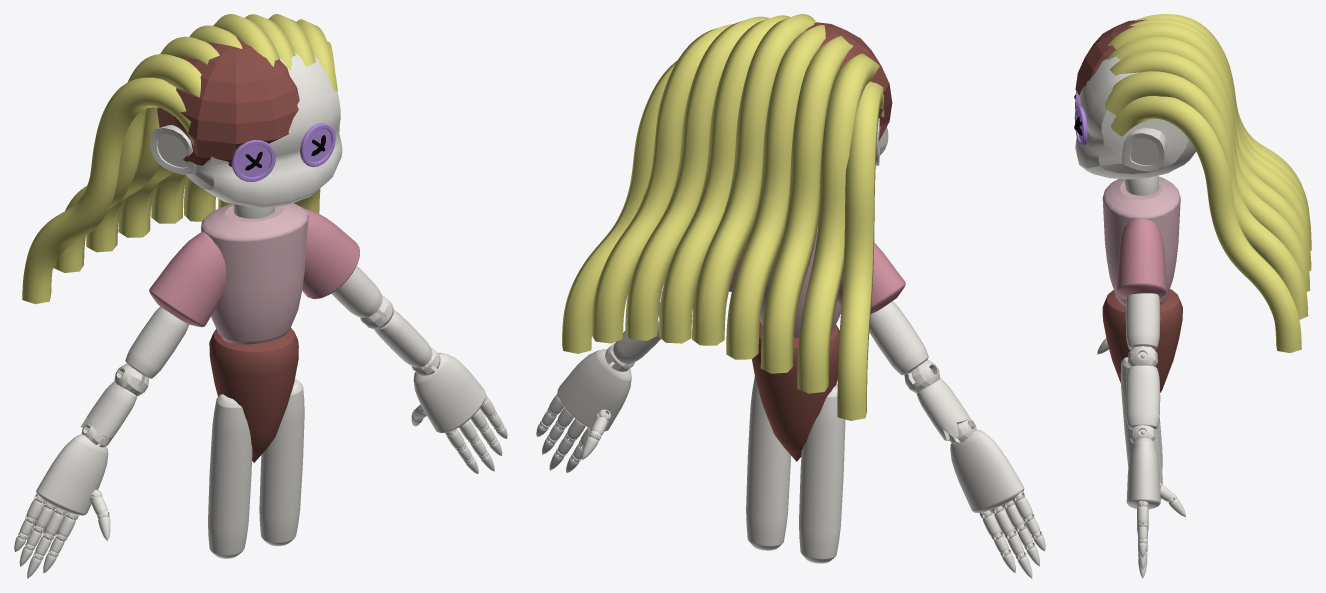
The model's file is mom.fbx.
The picture shows the model from 3 angles, left to right: view 1: azimuth 30°, elevation 25°; view 2: azimuth 150°, elevation 25°; view 3: azimuth 270°, elevation 25°; orthographic projection. The views are drawn at different scales.
Visible parts, largest first — view 1: pCylinder31, pCylinder33, pCylinder29, pCylinder20, pCylinder28, pCylinder6, pSphere14; view 2: pCylinder31, pCylinder33, pCylinder20, pCylinder29, pCylinder28, pCylinder6, pSphere14; view 3: pCylinder31, pSphere14, pCylinder20, pCylinder28.
Boxes of the visible parts, x1,y1,x2,y2 form: pCylinder31: (22, 14, 359, 462); pCylinder33: (14, 422, 110, 578); pCylinder29: (208, 394, 252, 558); pCylinder20: (411, 352, 507, 473); pCylinder28: (259, 378, 304, 546); pCylinder6: (80, 306, 188, 444); pSphere14: (331, 266, 440, 375); pCylinder31: (562, 14, 905, 461); pCylinder33: (948, 419, 1045, 578); pCylinder20: (536, 349, 631, 472); pCylinder29: (799, 383, 845, 563); pCylinder28: (746, 376, 790, 550); pCylinder6: (869, 301, 973, 440); pSphere14: (605, 291, 693, 371); pCylinder31: (1074, 14, 1311, 392); pSphere14: (1125, 293, 1160, 442); pCylinder20: (1126, 437, 1185, 578); pCylinder28: (1120, 357, 1162, 499).
Bounding box in the file's own units: 17.93 × 18.21 × 8.35.
